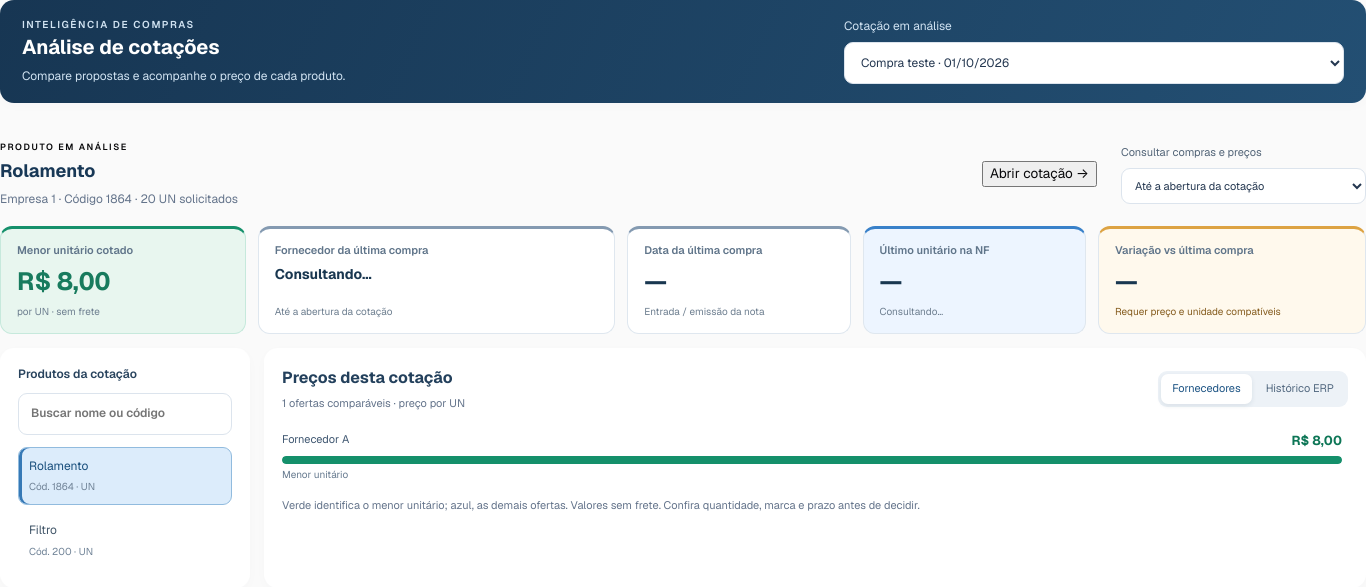
consulta notas posteriores sem confundir total fiscal com unitário ou custo de estoque
Select "Até hoje — incluir compras posteriores" in the dropdown labelled "Consultar compras e preços" at (1244, 186), box [1121,168,1365,204]
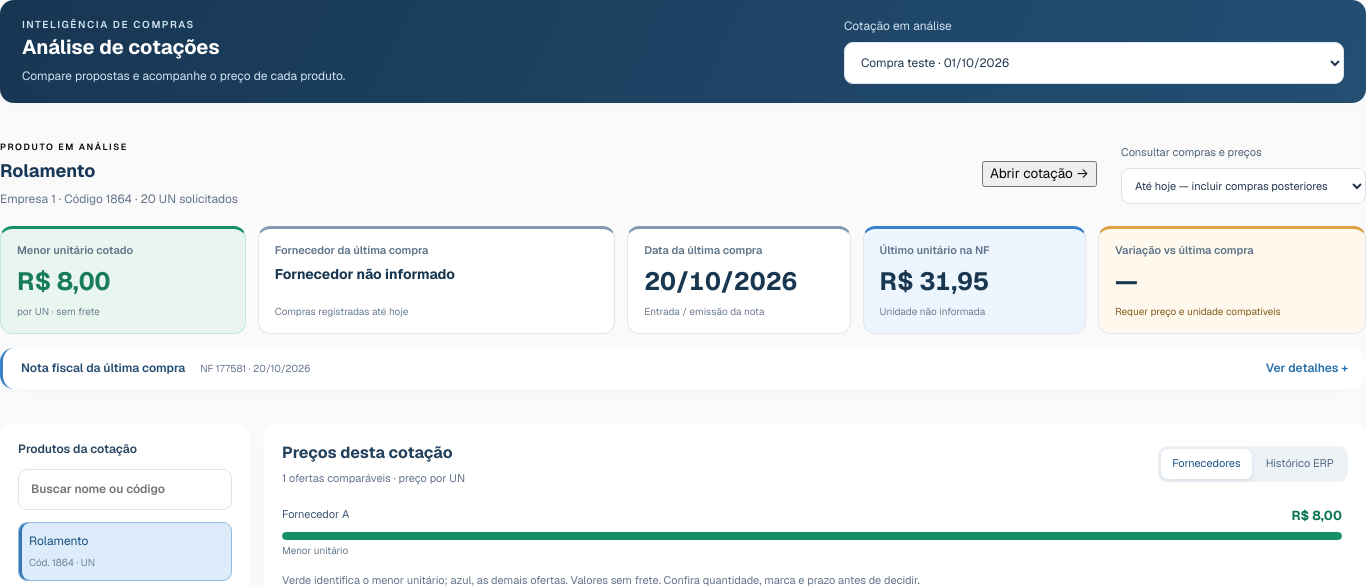
Click the text "Ver detalhes +" at (1307, 368), box [1266,360,1348,377]
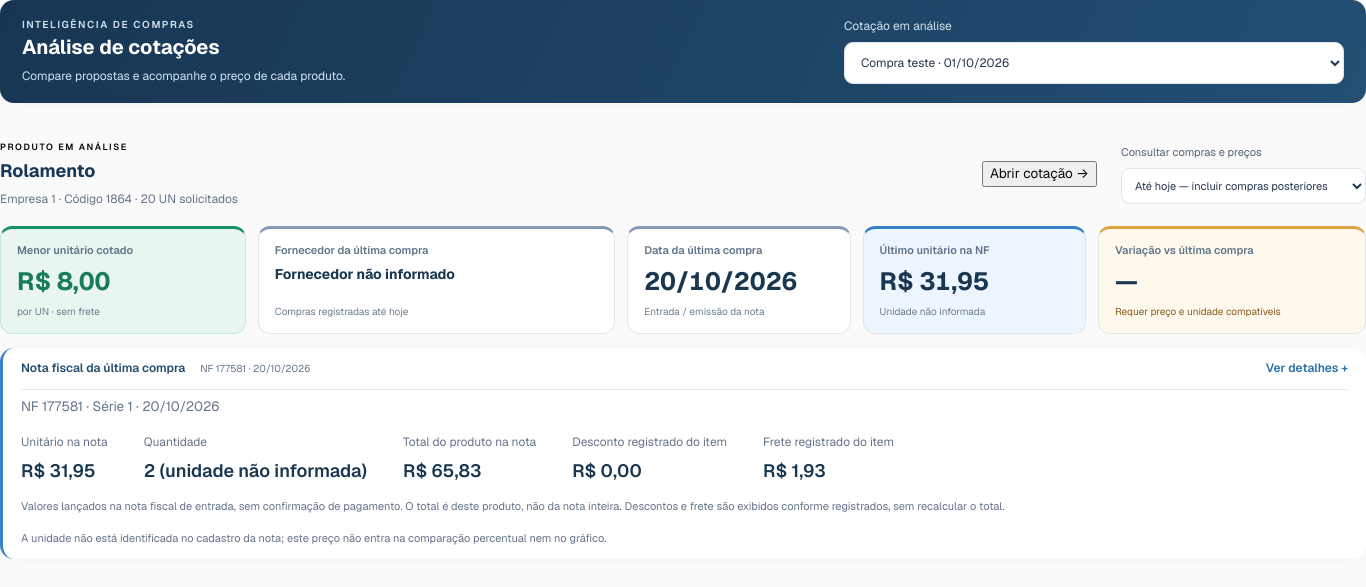
Expected: the text "R$ 65,83" is shown, [403,459,482,482]
Expected: the text "R$ 31,95" below "Unitário na nota" is shown, [21,459,96,482]
Expected: the text "unidade não está identificada" is shown, [21,530,606,544]
